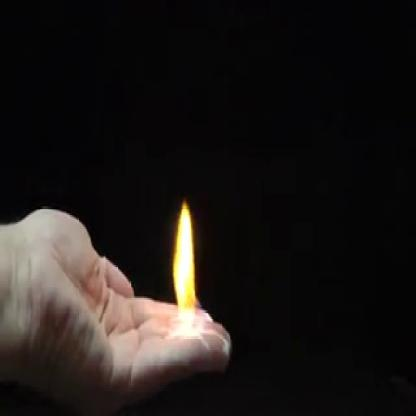fire: (165, 195, 206, 332)
